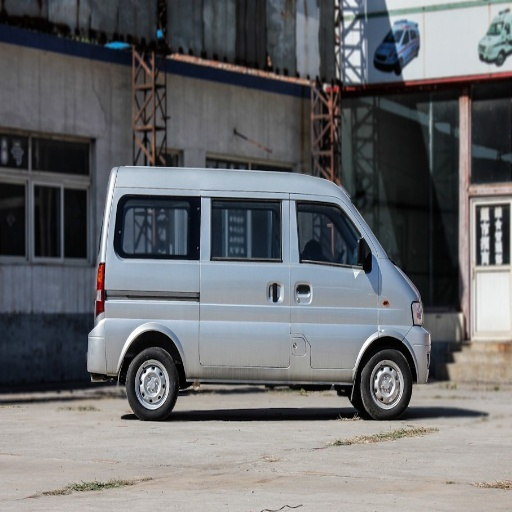back_right_door: (241, 197, 290, 322)
trunk: (94, 264, 201, 375)
